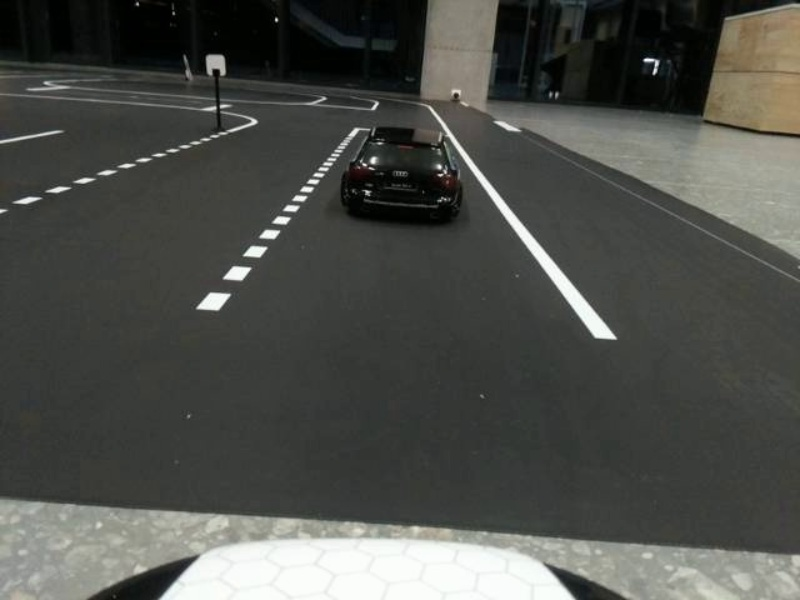car: (332, 119, 480, 228)
